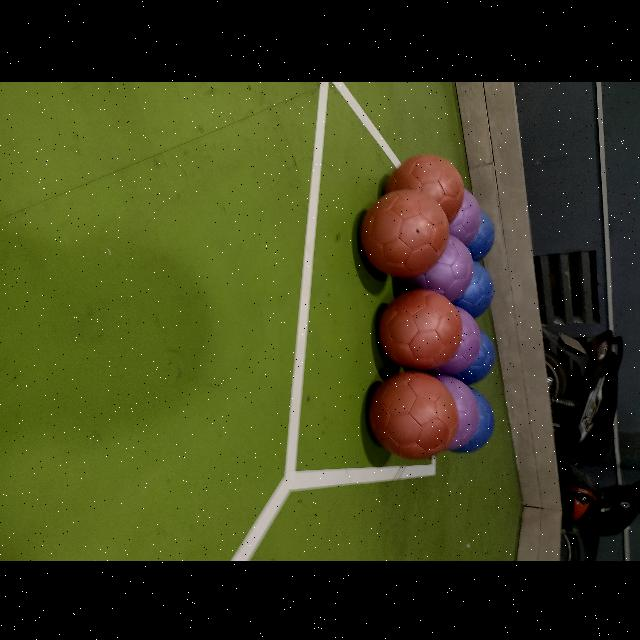B: (454, 388, 494, 452), (453, 326, 495, 384), (452, 261, 494, 317), (467, 209, 495, 259)
P: (400, 233, 474, 299), (432, 374, 480, 451), (432, 304, 482, 376)
R: (369, 370, 458, 458), (361, 188, 449, 274), (378, 288, 462, 368), (384, 148, 458, 228)
